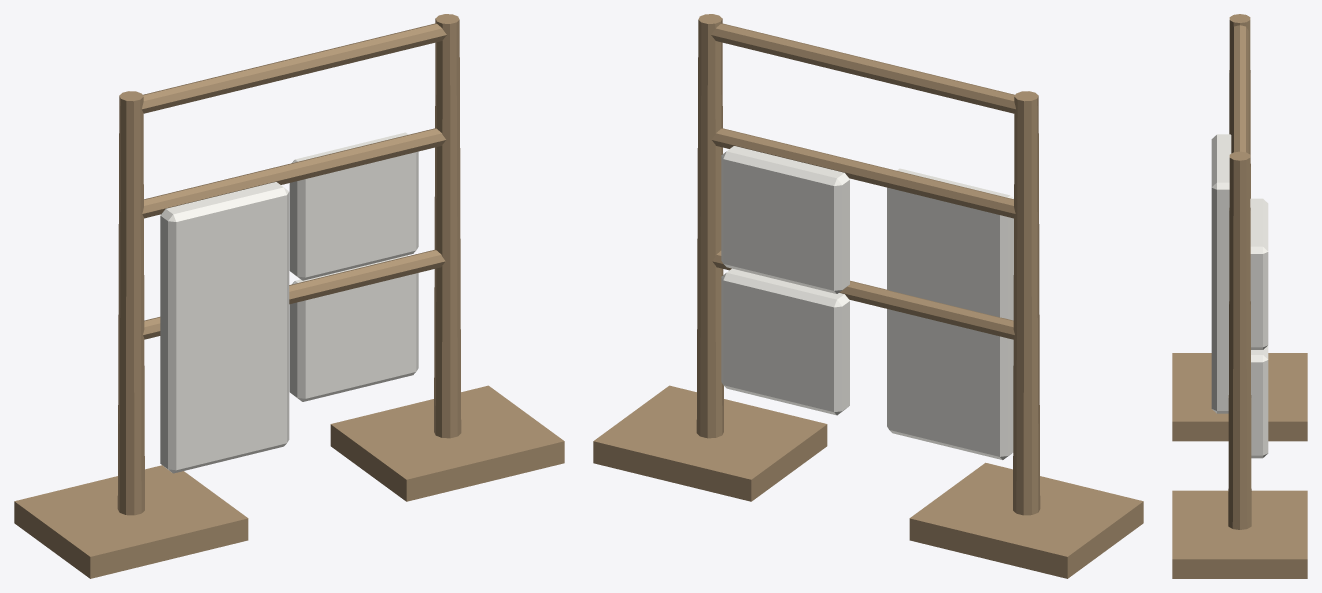
The model's file is roman-bathhouse-and-palaestra-towel-rack-6cc28901__37897.glb.
3 views of the same model, side by side, from view 1: azimuth 30°, elevation 25°; view 2: azimuth 150°, elevation 25°; view 3: azimuth 270°, elevation 25° (orthographic). The views are drawn at different scales.
Visible parts, largest first — view 1: towel-rack; view 2: towel-rack; view 3: towel-rack.
Boxes of the visible parts, <box> form: towel-rack: <box>14,14,564,578</box>; towel-rack: <box>593,14,1143,578</box>; towel-rack: <box>1172,14,1307,578</box>.
Bounding box in the file's own units: 1.8 × 1.58 × 0.4999.
